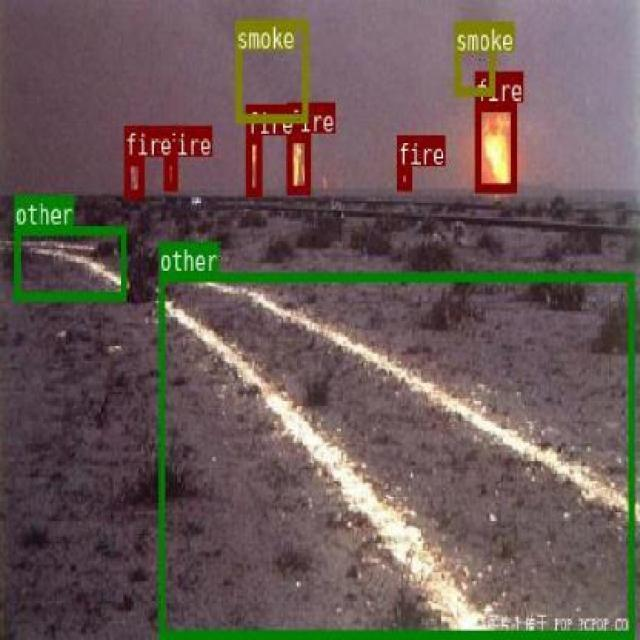Fire: (474, 101, 516, 190), (286, 132, 309, 192), (123, 156, 143, 196), (248, 134, 260, 194), (163, 156, 177, 189), (396, 164, 410, 190)
Smoke: (236, 17, 306, 122), (454, 20, 494, 94)
